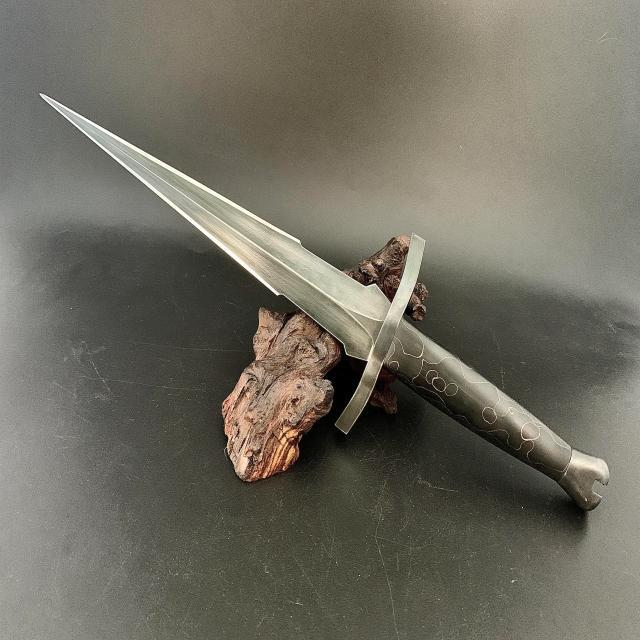short sword: (34, 77, 618, 521)
